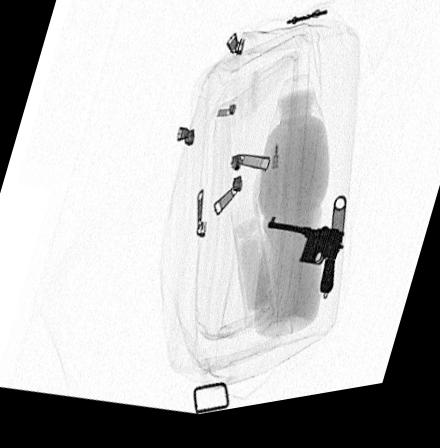Gun: (265, 221, 346, 303)
